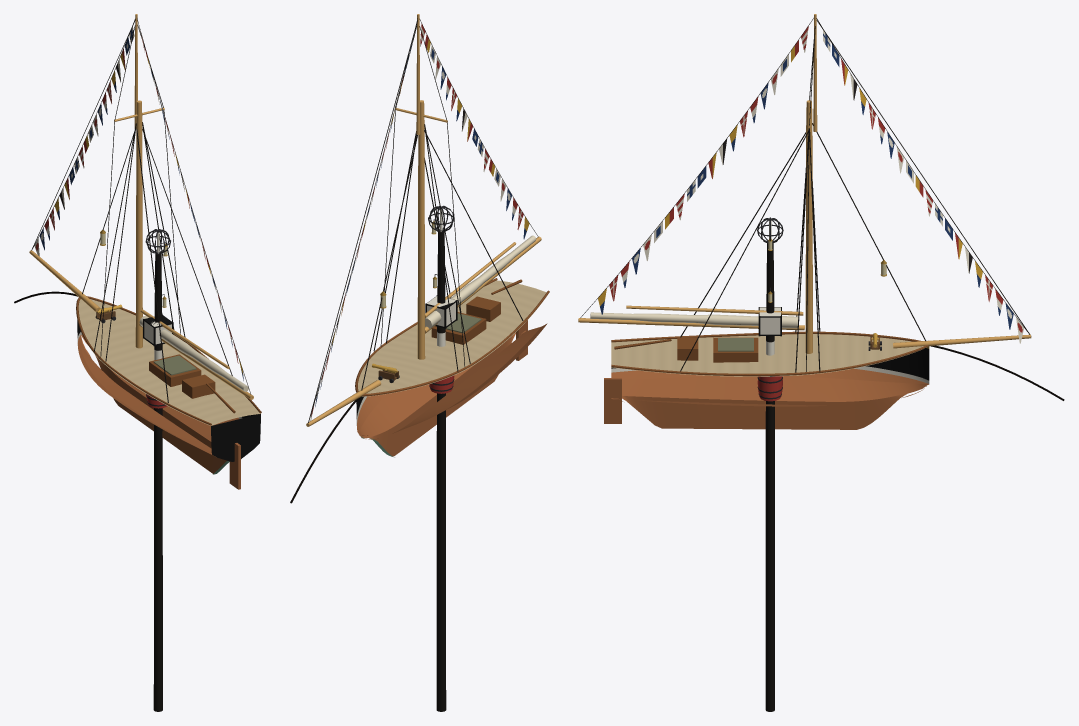
The model's file is committee.glb.
The picture shows the model from 3 angles, left to right: view 1: azimuth 30°, elevation 25°; view 2: azimuth 150°, elevation 25°; view 3: azimuth 270°, elevation 25°; orthographic projection. The views are drawn at different scales.
Visible parts, largest first — view 1: committee-boat, beacon-spar, cask-mark; view 2: committee-boat, beacon-spar, cask-mark; view 3: committee-boat, beacon-spar, cask-mark.
Part boxes in pixels (bbox=[...]): committee-boat: bbox=[14, 14, 261, 489]; beacon-spar: bbox=[145, 229, 170, 711]; cask-mark: bbox=[143, 232, 173, 408]; committee-boat: bbox=[290, 14, 549, 503]; beacon-spar: bbox=[428, 205, 454, 711]; cask-mark: bbox=[425, 209, 457, 393]; committee-boat: bbox=[578, 14, 1064, 429]; beacon-spar: bbox=[757, 217, 783, 711]; cask-mark: bbox=[757, 221, 782, 401].
Size of the model in its own units: 3.34 by 25.6 by 16.22.
